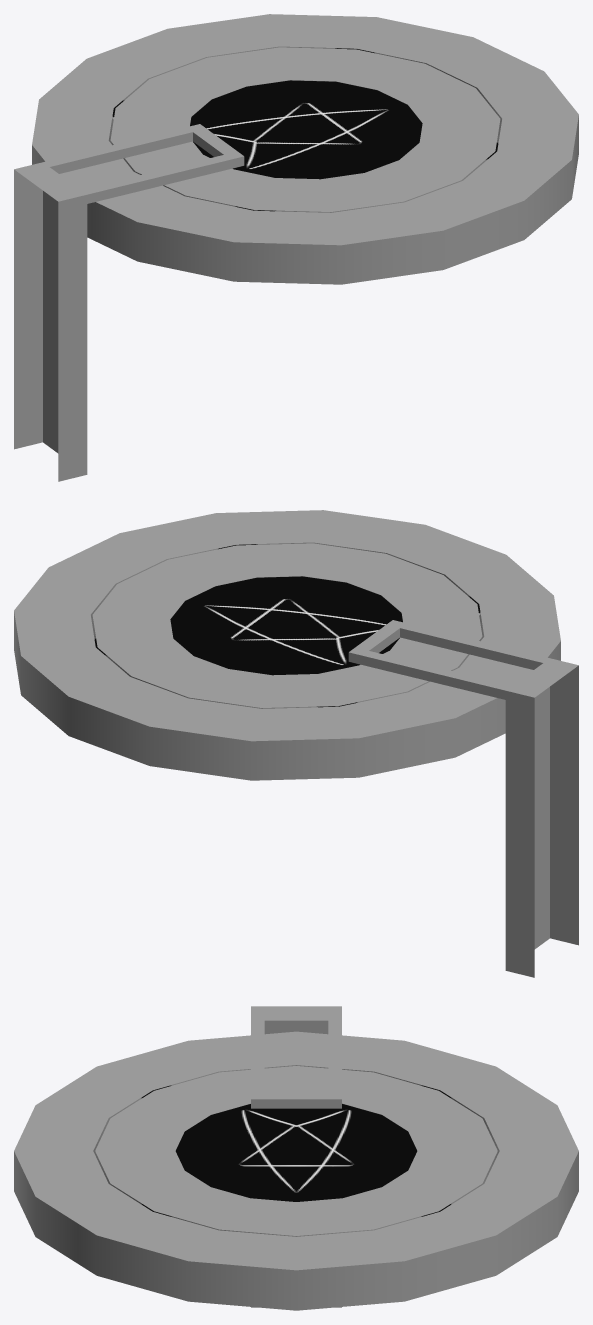
The model's file is Dial01_FIX1.fbx.
3 renders of one model, top to bottom at view 1: azimuth 30°, elevation 25°; view 2: azimuth 150°, elevation 25°; view 3: azimuth 270°, elevation 25°, orthographic. The views are drawn at different scales.
Parts seen in each view (by area): view 1: pCylinder3, pCylinder5, pCube1, pPlane2; view 2: pCylinder3, pCylinder5, pCube1, pPlane2; view 3: pCylinder3, pCylinder5, pPlane2, pCube1.
Part boxes in pixels (x1,y1,x2,y2): pCylinder3: (32, 14, 578, 284); pCylinder5: (110, 47, 500, 212); pCube1: (14, 124, 244, 481); pPlane2: (112, 48, 498, 211); pCylinder3: (14, 510, 560, 780); pCylinder5: (92, 543, 482, 708); pCube1: (348, 620, 578, 977); pPlane2: (94, 544, 480, 707); pCylinder3: (14, 1031, 578, 1310); pCylinder5: (95, 1066, 497, 1236); pPlane2: (141, 1085, 451, 1216); pCube1: (251, 1006, 341, 1307).
Bounding box in the file's own units: 50.53 × 26.61 × 47.5.
